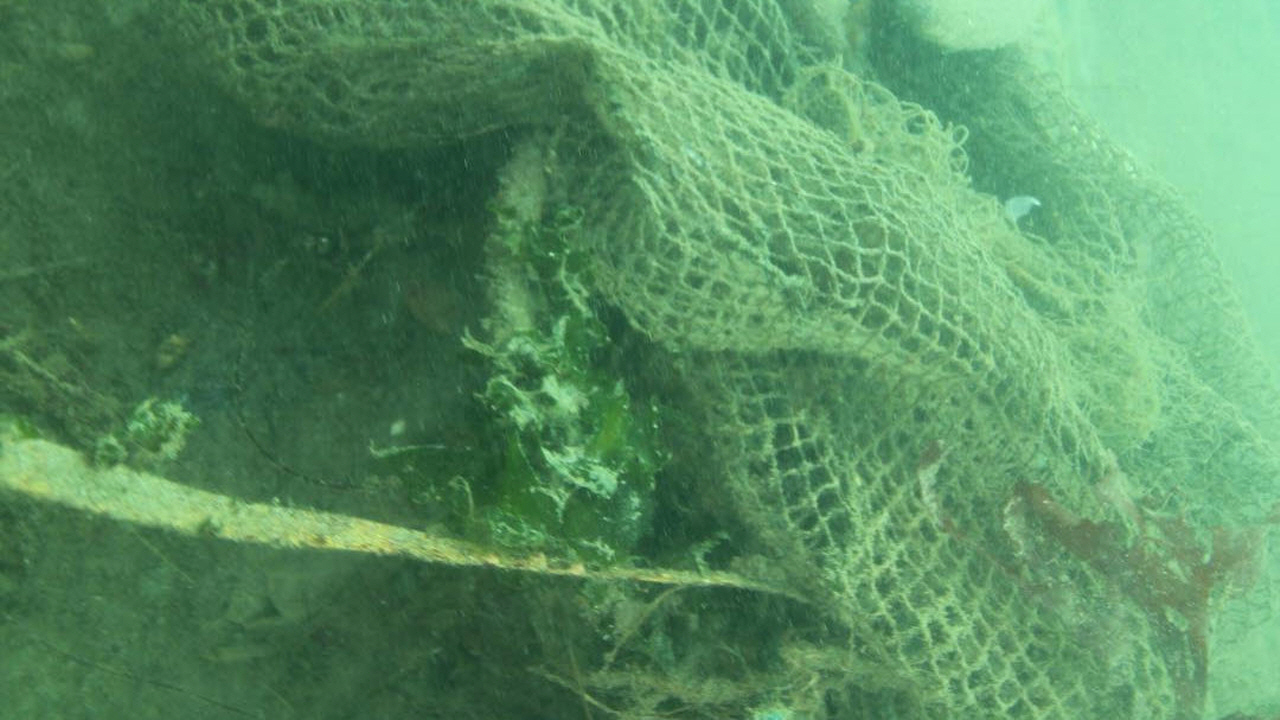fish net: (145, 0, 1280, 720)
